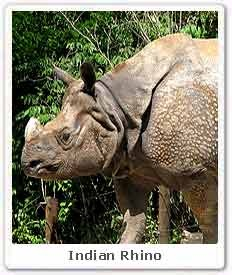rhino: (20, 35, 217, 244)
